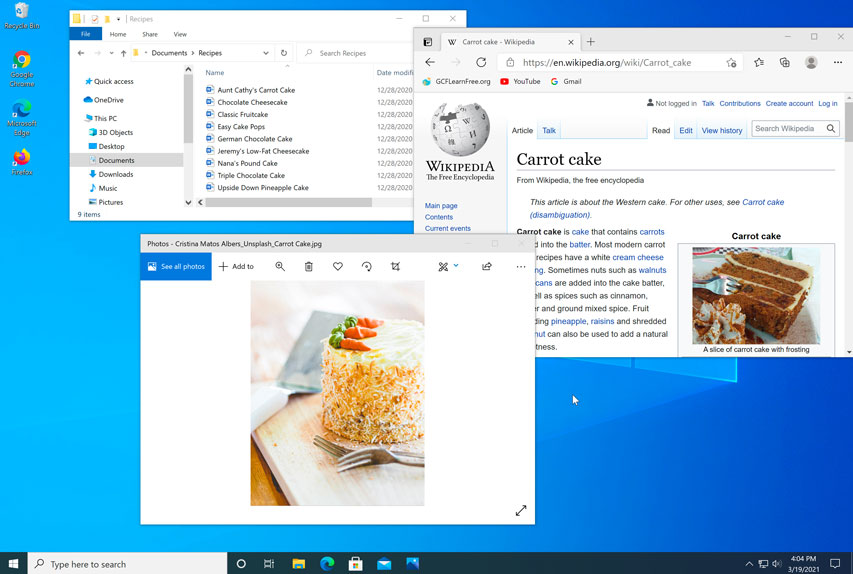search_box: (28, 551, 227, 574)
start_bar: (5, 554, 20, 571)
